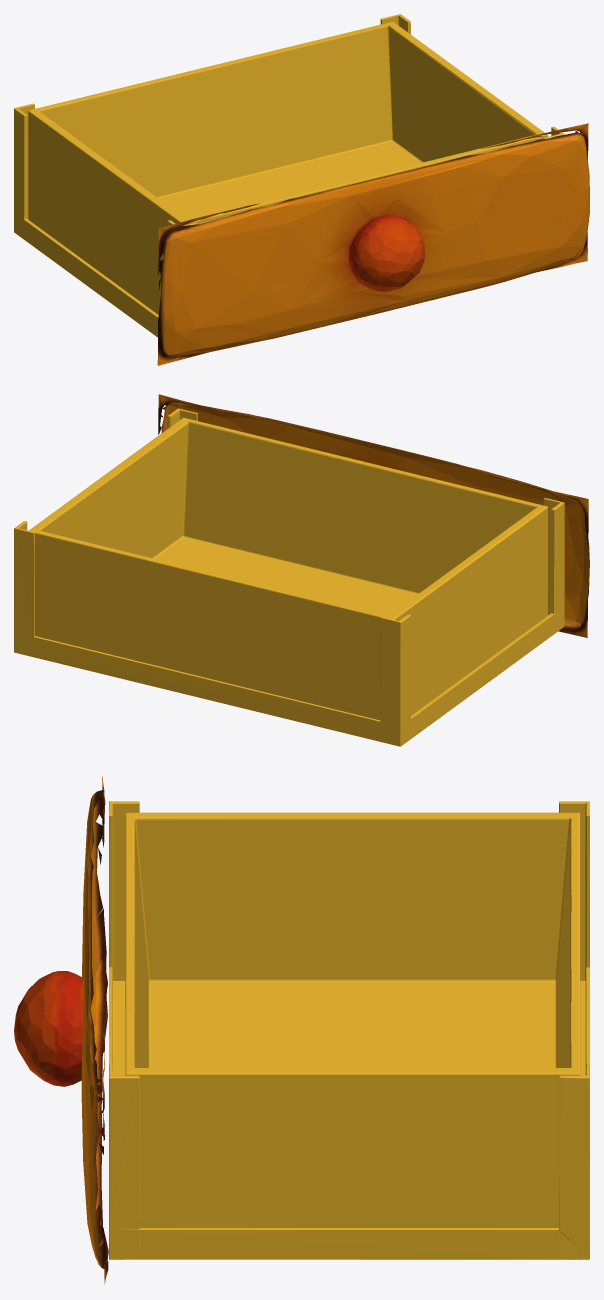
The model's file is drawer_bottom.glb.
3 views of the same model, one above another, from view 1: azimuth 30°, elevation 25°; view 2: azimuth 150°, elevation 25°; view 3: azimuth 270°, elevation 25° (orthographic). The views are drawn at different scales.
Parts seen in each view (by area): view 1: prefab_drawer_body_3, source_front_cap_0; view 2: prefab_drawer_body_3, source_front_cap_0; view 3: prefab_drawer_body_3, source_front_cap_0.
Part boxes in pixels (x1,y1,x2,y2): prefab_drawer_body_3: (14,14,564,337); source_front_cap_0: (157,123,589,365); prefab_drawer_body_3: (14,408,564,746); source_front_cap_0: (158,394,589,637); prefab_drawer_body_3: (109,801,589,1259); source_front_cap_0: (14,776,108,1284).
Size of the model in its own units: 0.3959 by 0.1218 by 0.3135.
2 materials, 1 textured.
